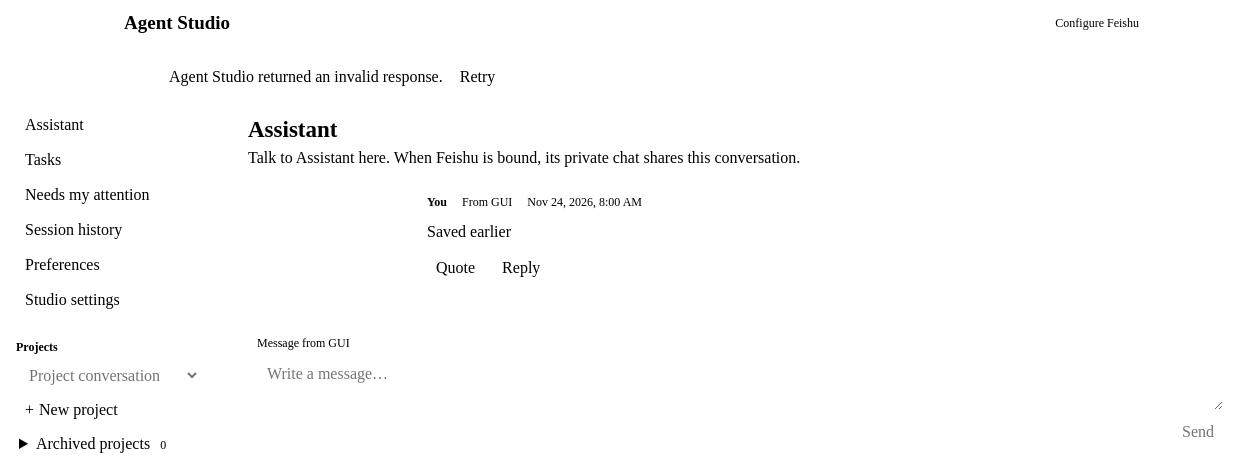
Test: reports unreadable data without losing the current timeline and can retry
Expected: the message "Agent Studio returned an invalid response. Retry" is shown, [169, 62, 504, 92]
Step 1. Click the button "Retry" → (477, 77), box [451, 62, 504, 92]
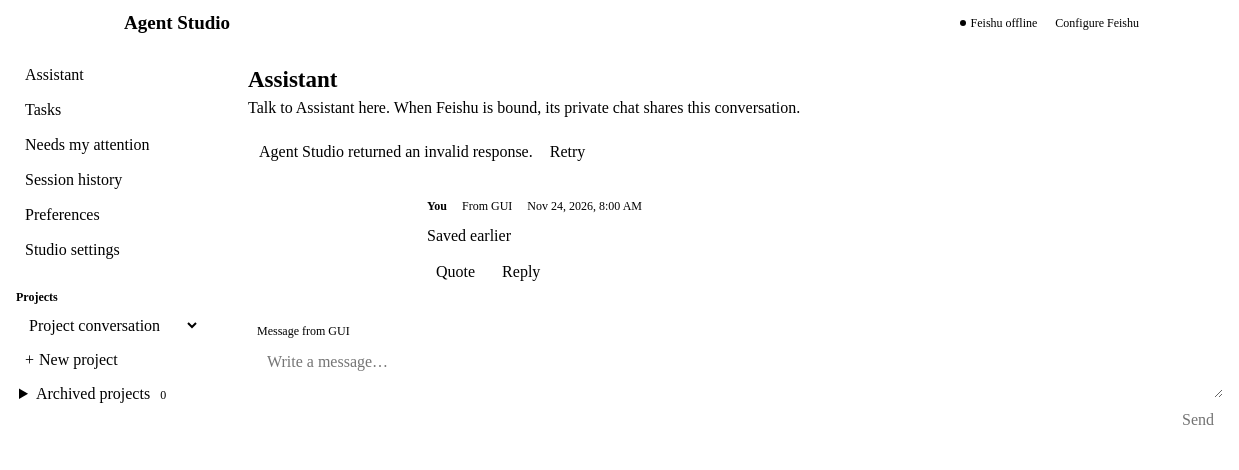
Expected: the message "Agent Studio returned an invalid response. Retry" is shown, [259, 137, 594, 167]
Expected: the element with class "as-banner" is gone
Step 2. Click the button "Retry" → (567, 152), box [541, 137, 594, 167]
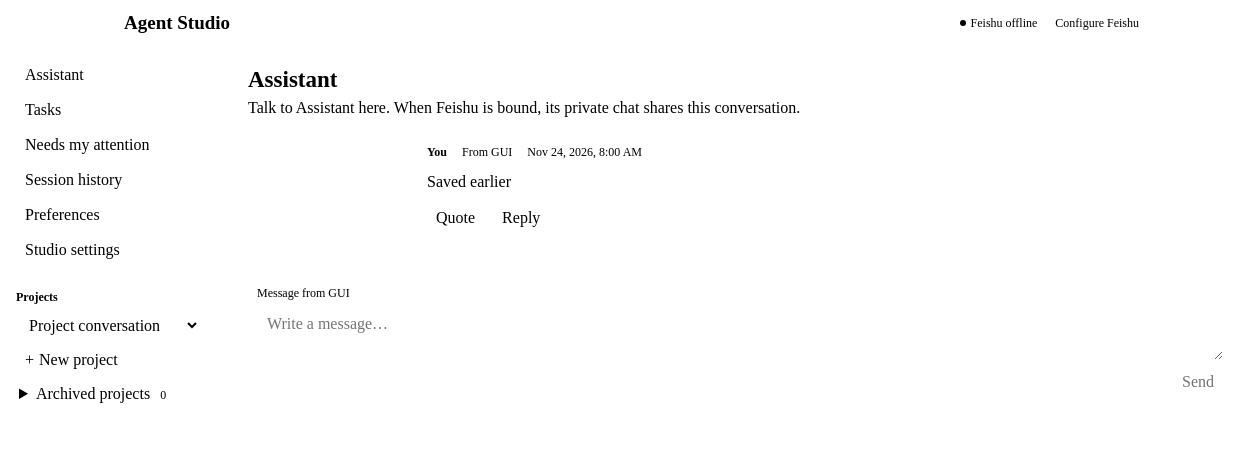
Expected: the message "Agent Studio returned an invalid response. Retry" is gone
